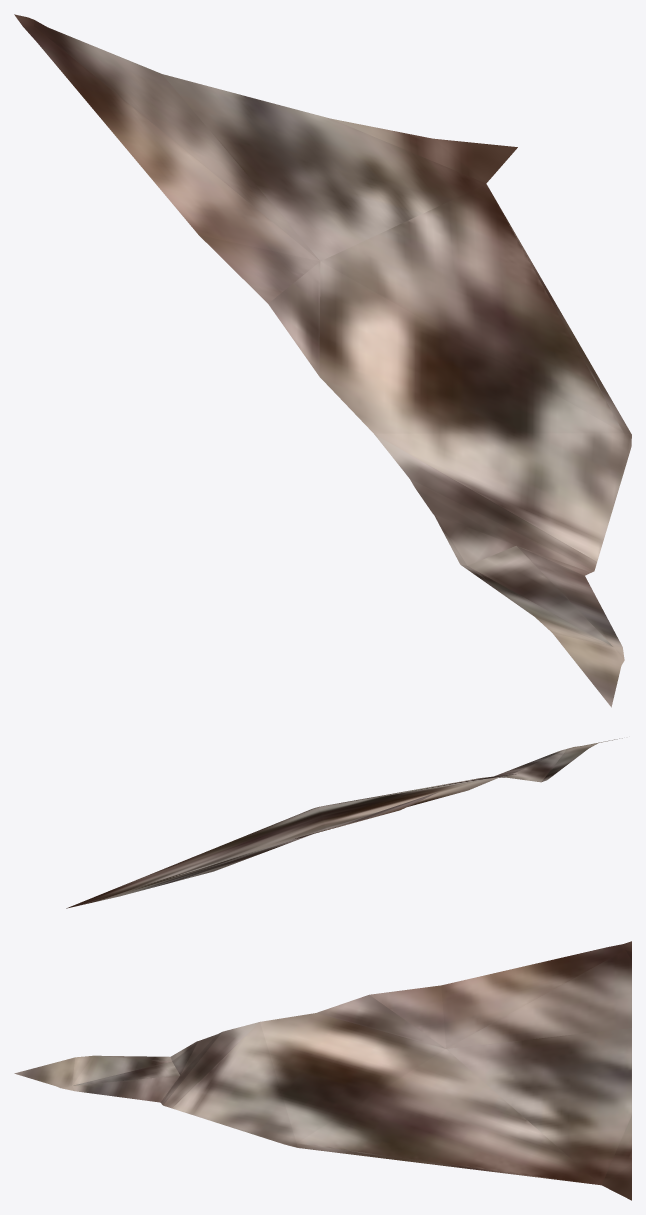
3 renders of one model, top to bottom at view 1: azimuth 30°, elevation 25°; view 2: azimuth 150°, elevation 25°; view 3: azimuth 270°, elevation 25°, orthographic. The views are drawn at different scales.
Bounding box in the file's own units: 0.5692 × 0.276 × 1.17.
Materials: 1 (1 with a texture image).
